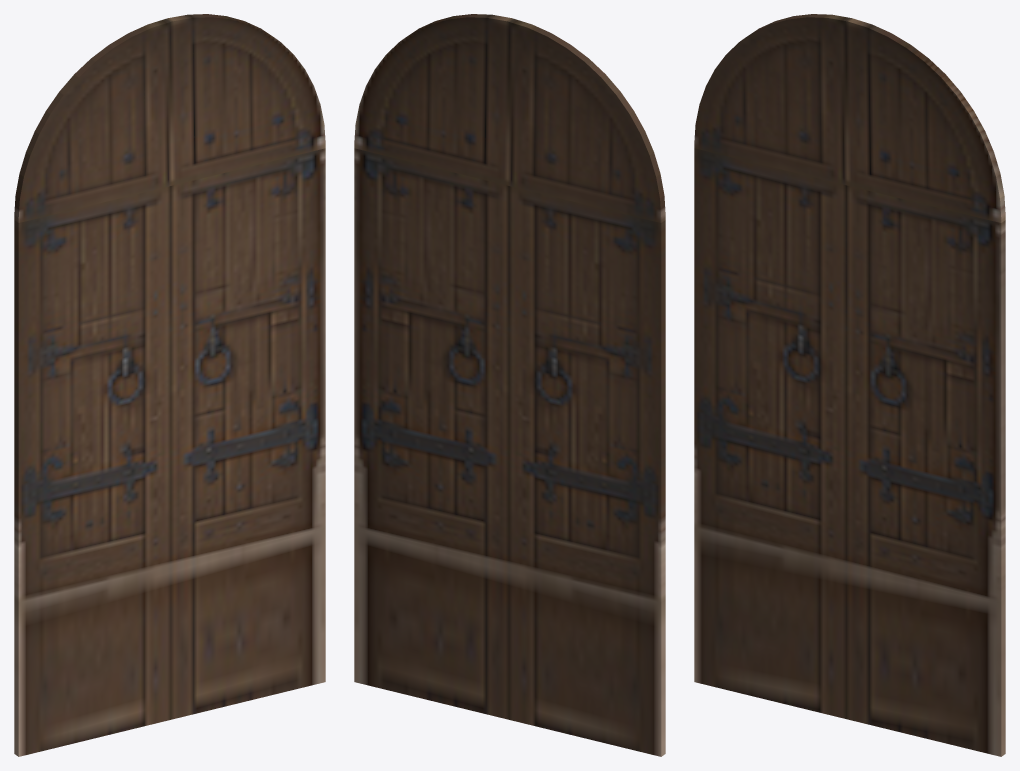
The model's file is Furn_Entrance_Main_Door.fbx.
The picture shows the model from 3 angles, left to right: view 1: azimuth 30°, elevation 25°; view 2: azimuth 150°, elevation 25°; view 3: azimuth 330°, elevation 25°; orthographic projection.
Parts seen in each view (by area): view 1: Furn_Entrance_Main_Door_L, Furn_Entrance_Main_Door_R; view 2: Furn_Entrance_Main_Door_L, Furn_Entrance_Main_Door_R; view 3: Furn_Entrance_Main_Door_R, Furn_Entrance_Main_Door_L.
Boxes of the visible parts, left/top/right/bottom form: Furn_Entrance_Main_Door_L: left=14, top=18, right=172, bottom=756; Furn_Entrance_Main_Door_R: left=168, top=14, right=325, bottom=719; Furn_Entrance_Main_Door_L: left=507, top=18, right=665, bottom=756; Furn_Entrance_Main_Door_R: left=354, top=14, right=511, bottom=719; Furn_Entrance_Main_Door_R: left=847, top=18, right=1005, bottom=756; Furn_Entrance_Main_Door_L: left=694, top=14, right=851, bottom=719.
Size of the model in its own units: 1.59 by 3.46 by 0.04.
1 material, 1 textured.
